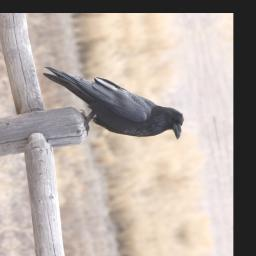Crow: (39, 47, 189, 157)
